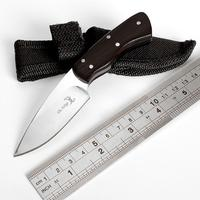knife: (9, 8, 142, 161)
